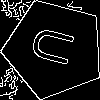U: (29, 24, 85, 71)
